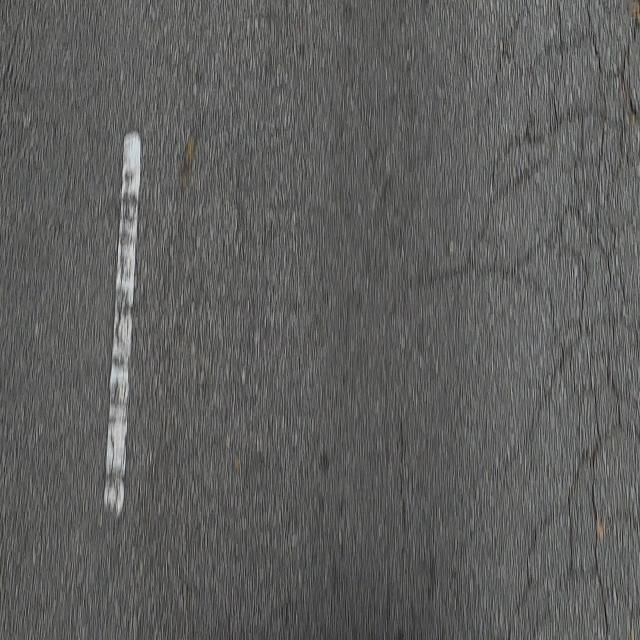Retak-Buaya: (432, 3, 640, 640)
